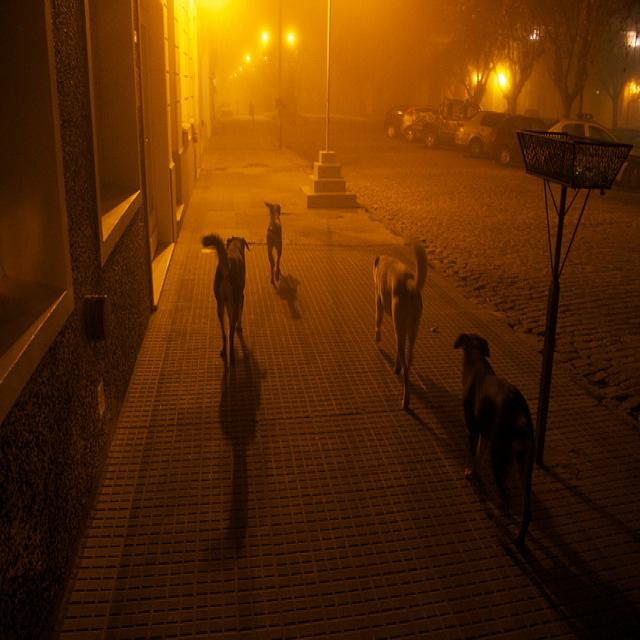dog: (449, 312, 542, 542), (369, 227, 433, 395), (207, 203, 256, 364), (260, 163, 298, 323)
